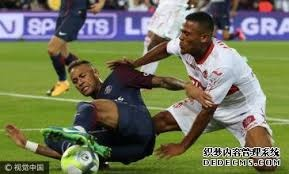falling: (145, 8, 288, 168)
